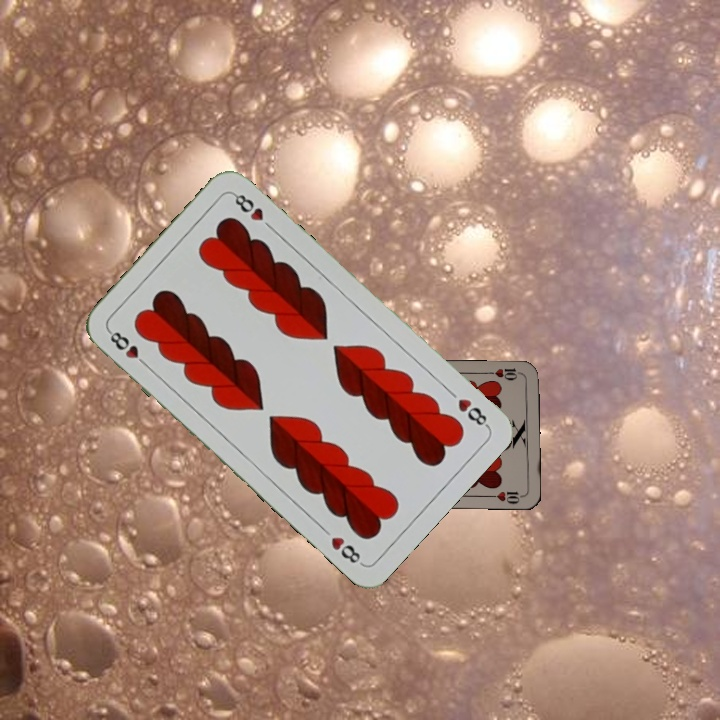H10: (485, 364, 525, 383)
H8: (105, 326, 152, 371), (453, 394, 491, 430)
